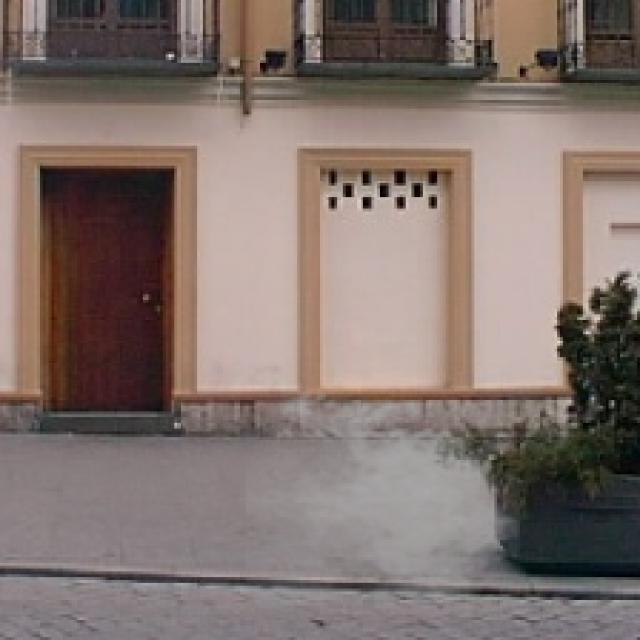Smoke: (246, 386, 528, 608)
